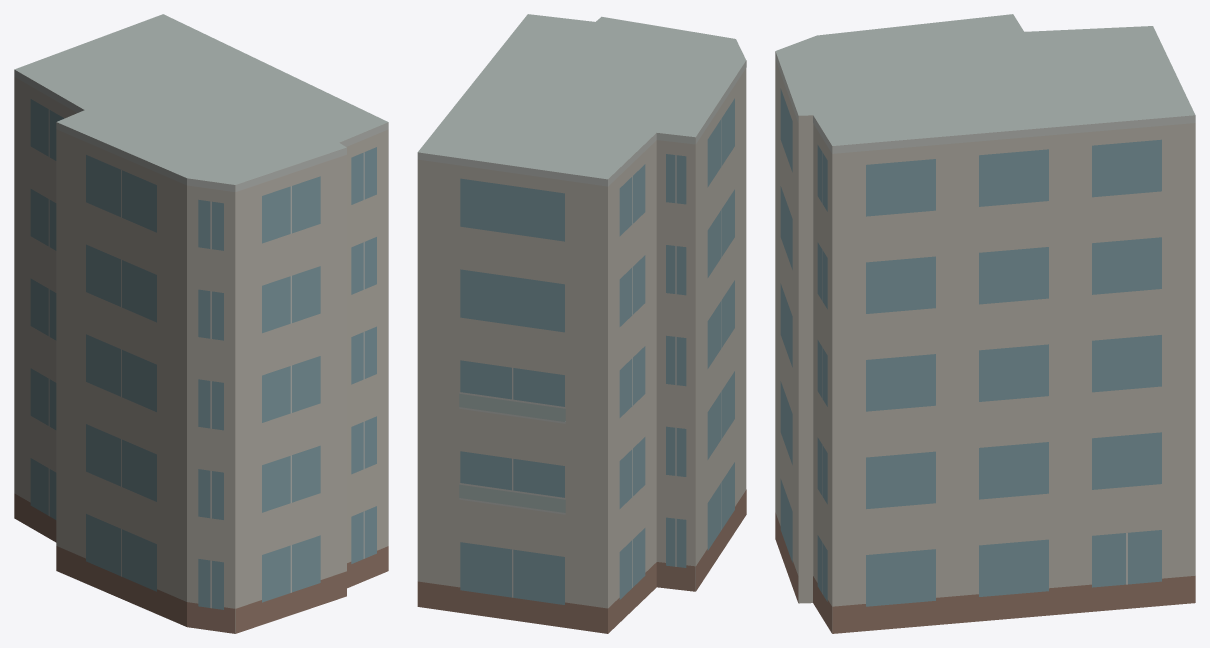
The model's file is survey-upis-32603030.glb.
3 views of the same model, side by side, from view 1: azimuth 30°, elevation 25°; view 2: azimuth 150°, elevation 25°; view 3: azimuth 270°, elevation 25° (orthographic). The views are drawn at different scales.
Visible parts, largest first — view 1: survey-upis-32603030.tmp; view 2: survey-upis-32603030.tmp; view 3: survey-upis-32603030.tmp.
Part boxes in pixels (bbox=[...]): survey-upis-32603030.tmp: bbox=[14, 14, 388, 633]; survey-upis-32603030.tmp: bbox=[417, 14, 746, 633]; survey-upis-32603030.tmp: bbox=[775, 14, 1195, 633].
Size of the model in its own units: 8.87 by 15.25 by 11.92.
